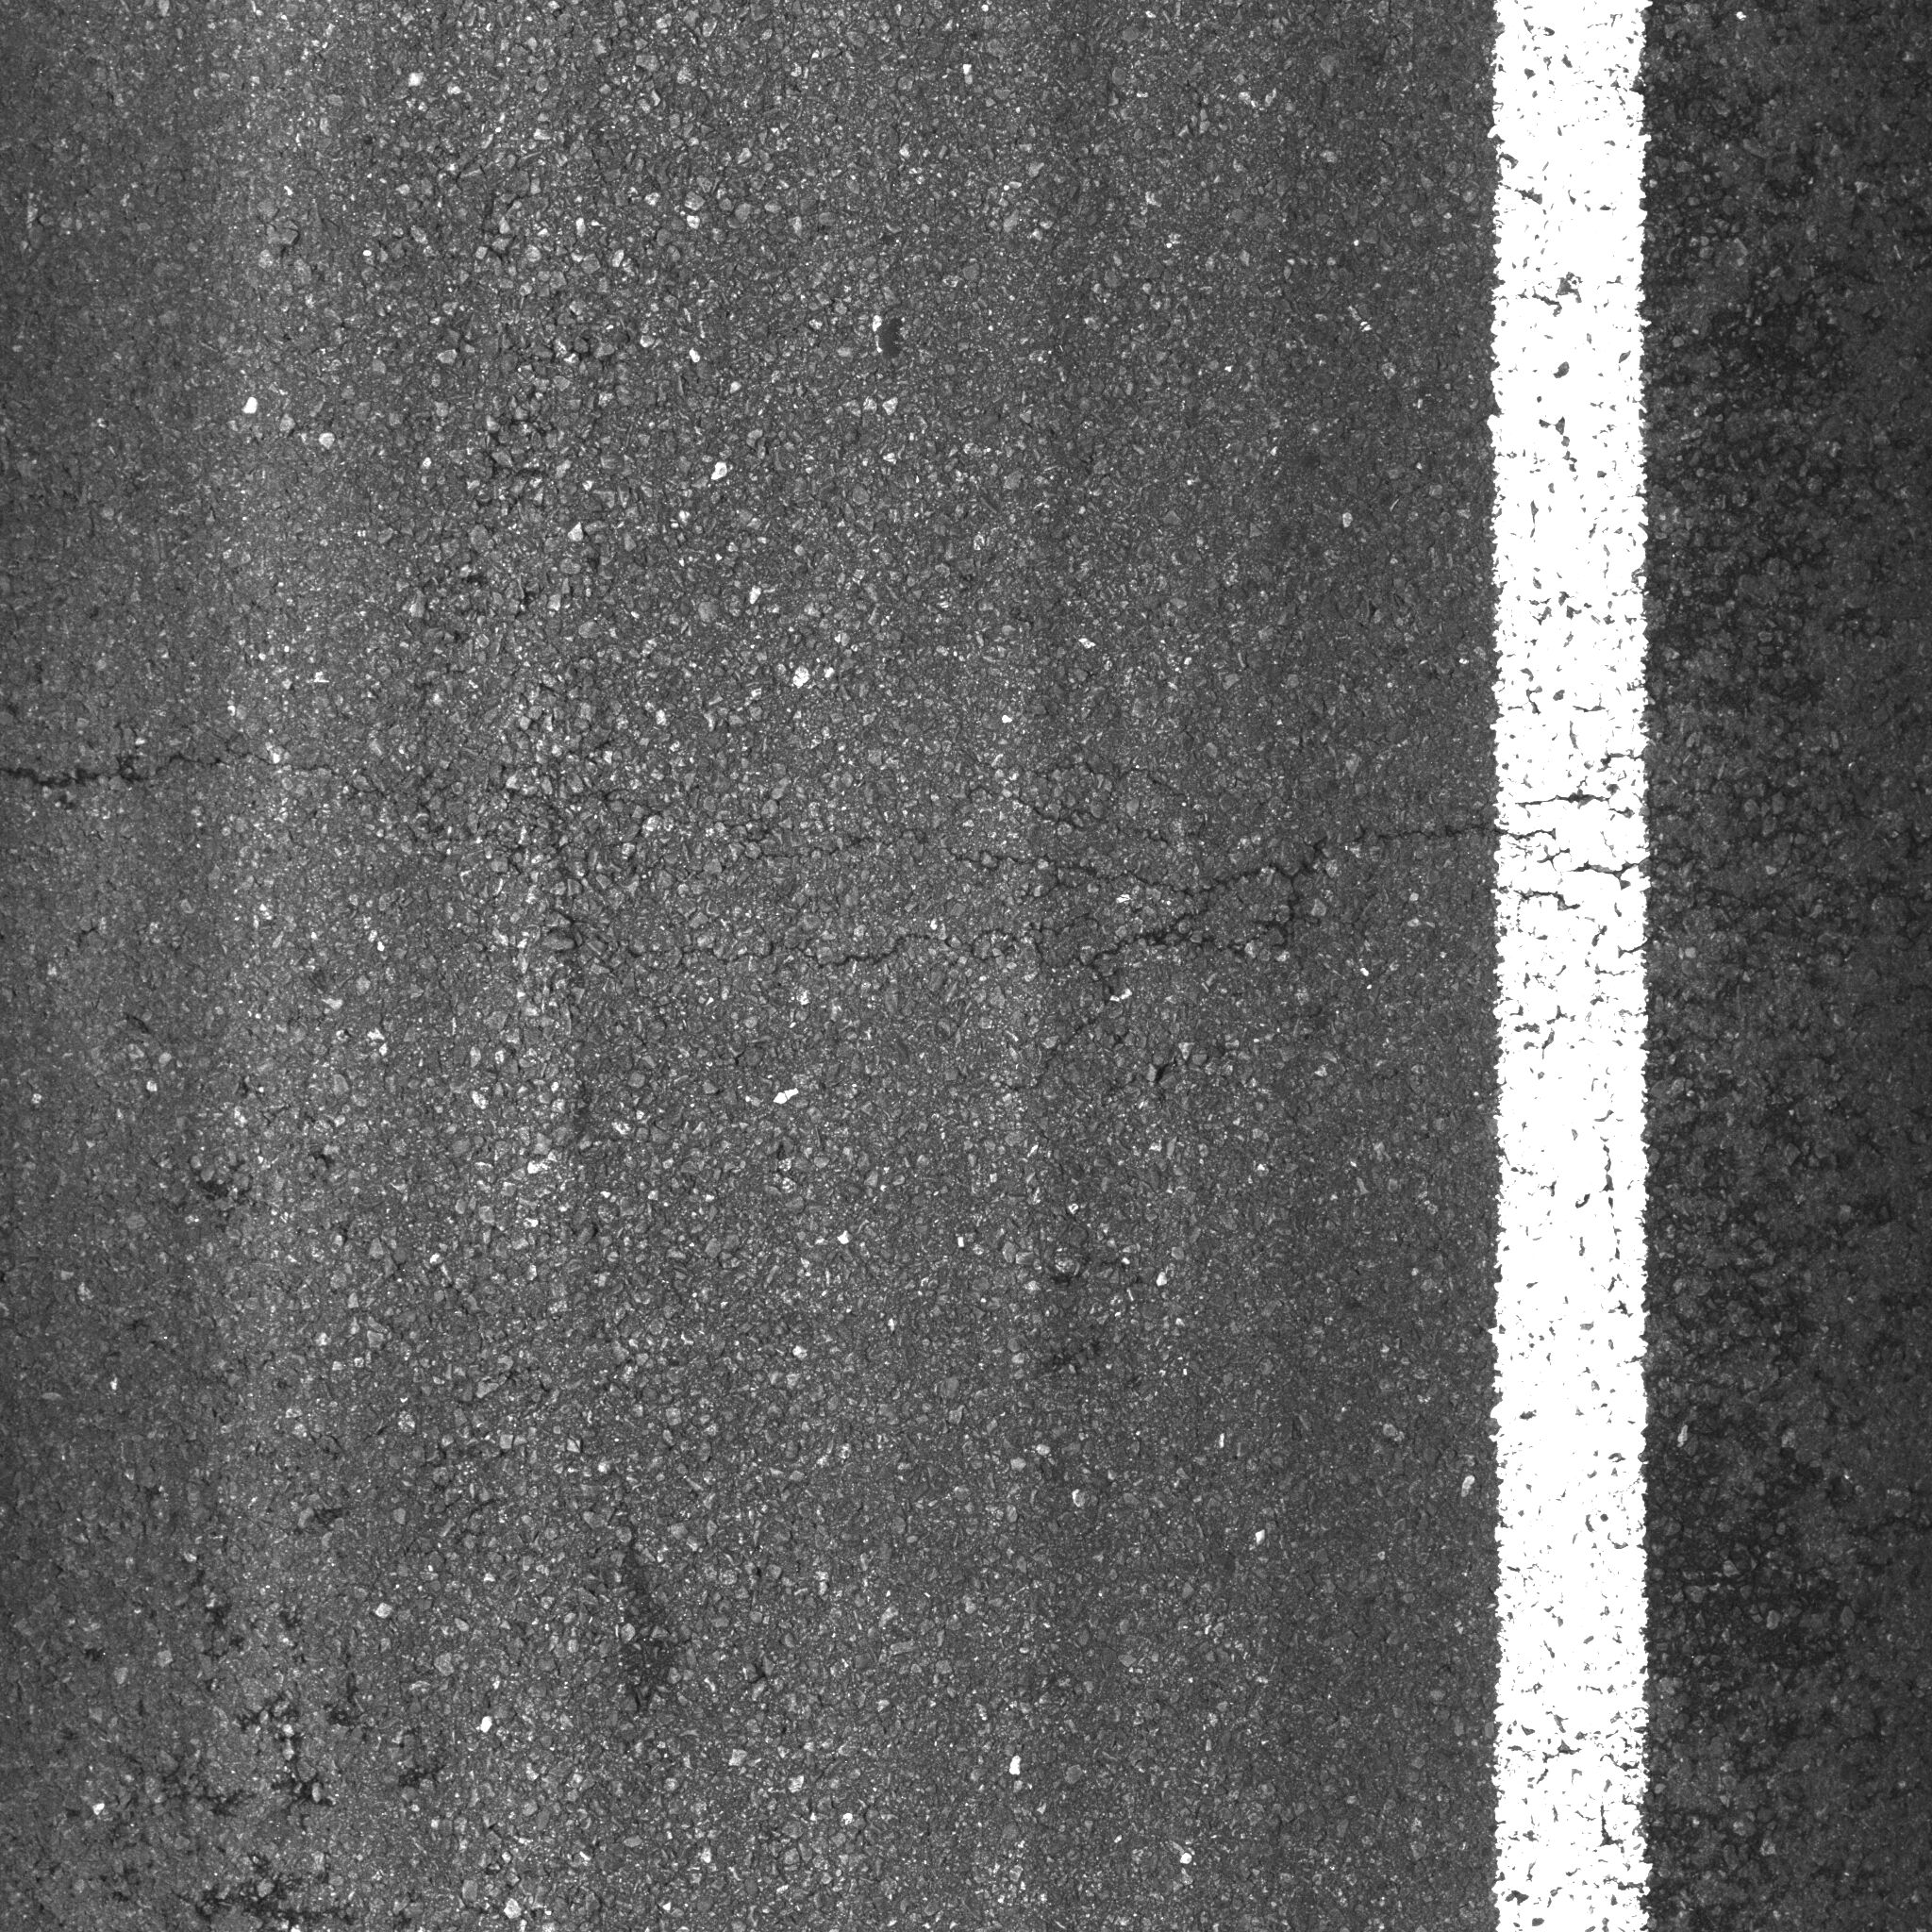transeverse: (21, 720, 1495, 1069)
